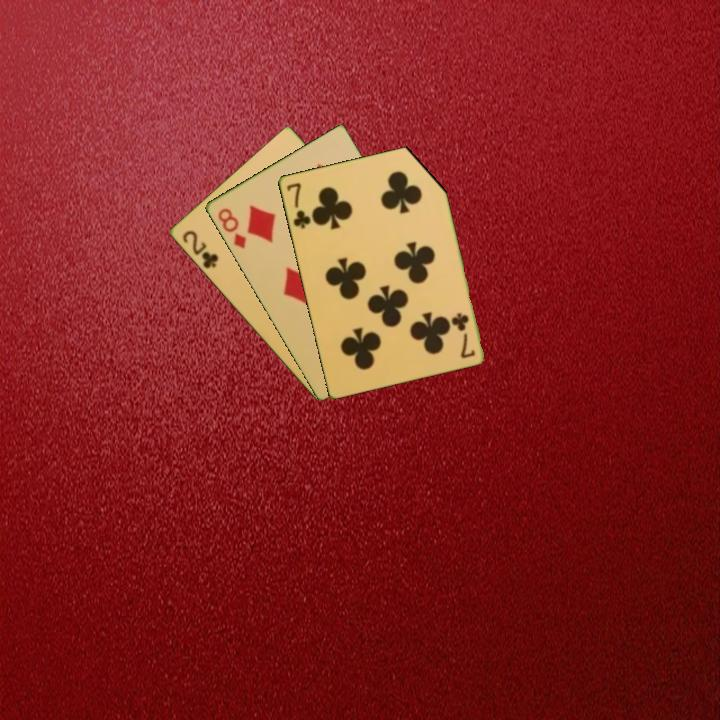2c: (178, 227, 221, 272)
7c: (283, 179, 313, 231), (449, 309, 478, 361)
8d: (214, 204, 249, 252)
